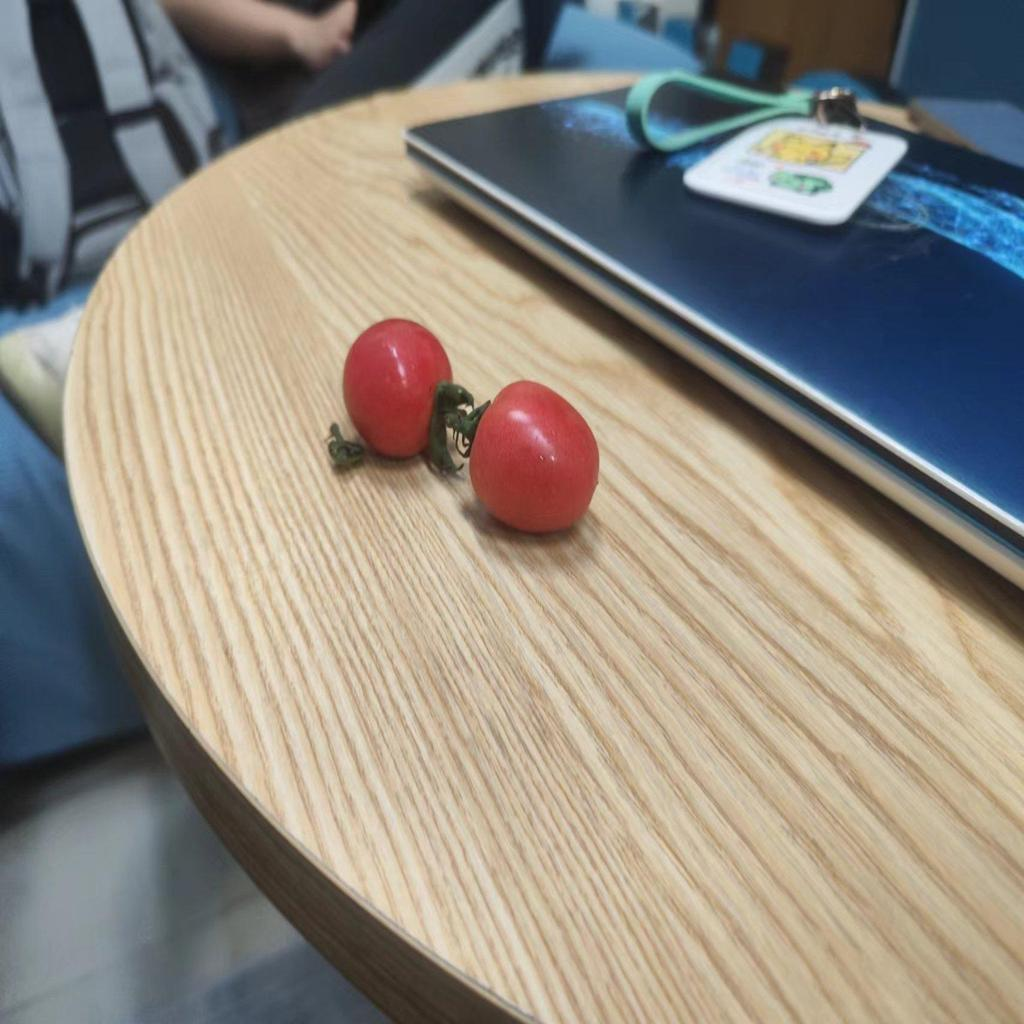tomato: (466, 378, 608, 536), (340, 317, 453, 461)
